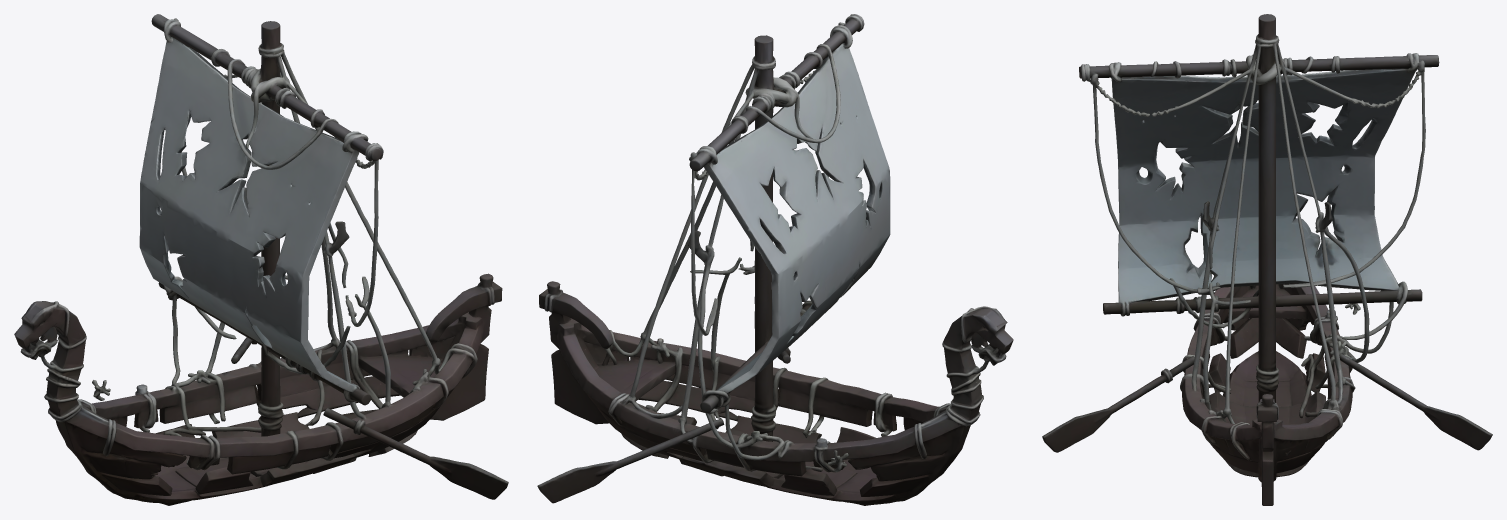
File: 20%_ship.fbx
3 renders of one model, left to right at view 1: azimuth 30°, elevation 25°; view 2: azimuth 150°, elevation 25°; view 3: azimuth 270°, elevation 25°, orthographic. The views are drawn at different scales.
Visible parts, largest first — view 1: tripo_node_004aeb76-fe27-411e-8fe4-e3f38066a495; view 2: tripo_node_004aeb76-fe27-411e-8fe4-e3f38066a495; view 3: tripo_node_004aeb76-fe27-411e-8fe4-e3f38066a495.
Part boxes in pixels (x1,y1,x2,y2): tripo_node_004aeb76-fe27-411e-8fe4-e3f38066a495: [14, 14, 508, 505]; tripo_node_004aeb76-fe27-411e-8fe4-e3f38066a495: [537, 14, 1013, 505]; tripo_node_004aeb76-fe27-411e-8fe4-e3f38066a495: [1042, 14, 1492, 505].
Size of the model in its own units: 1 by 0.91 by 0.8804.
